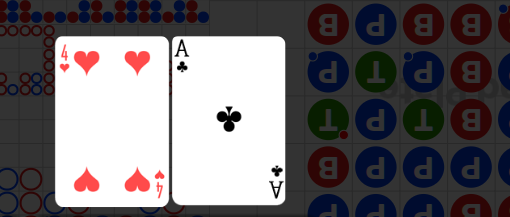4H: (152, 168, 165, 199)
AC: (174, 39, 192, 77)
